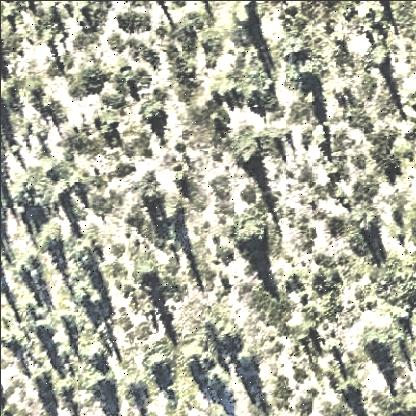tree-top: (177, 347, 217, 377), (287, 59, 323, 91), (237, 223, 273, 254), (73, 282, 104, 316), (79, 366, 111, 396), (36, 225, 64, 258), (203, 366, 235, 392), (143, 354, 174, 380), (361, 333, 390, 359), (9, 253, 35, 279), (144, 107, 168, 134), (336, 379, 360, 405), (359, 213, 383, 238), (233, 1, 257, 26), (237, 144, 261, 168), (142, 187, 166, 211), (369, 48, 392, 73), (138, 265, 160, 290), (37, 316, 51, 338)
